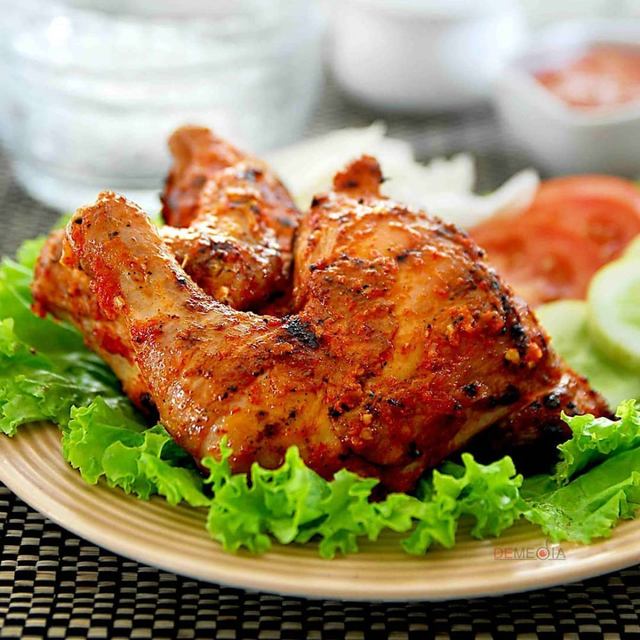Ayam: (75, 160, 562, 527)
